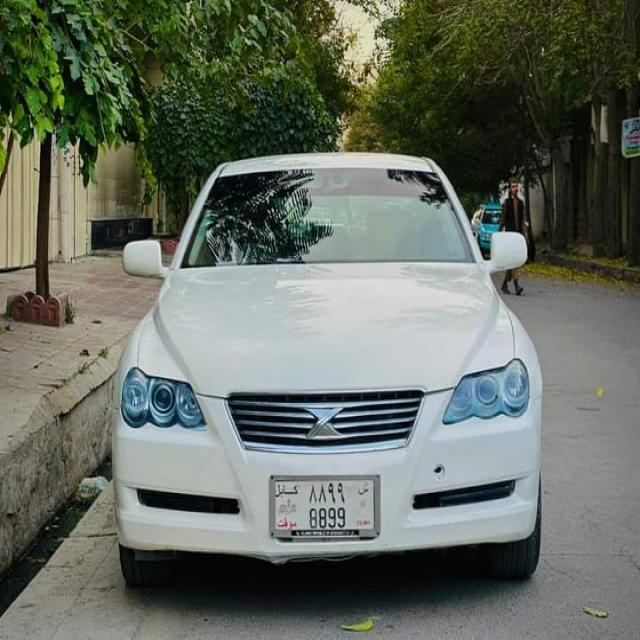Plate: (269, 474, 379, 538)
